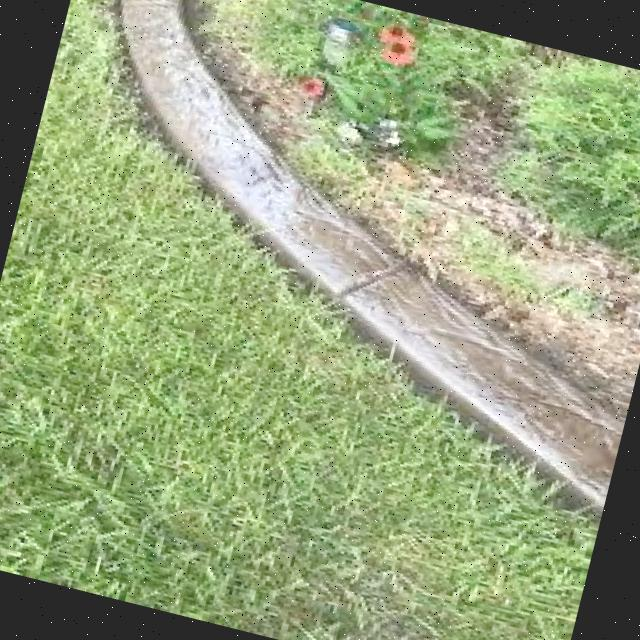curb: (337, 248, 640, 503), (127, 128, 420, 309)
